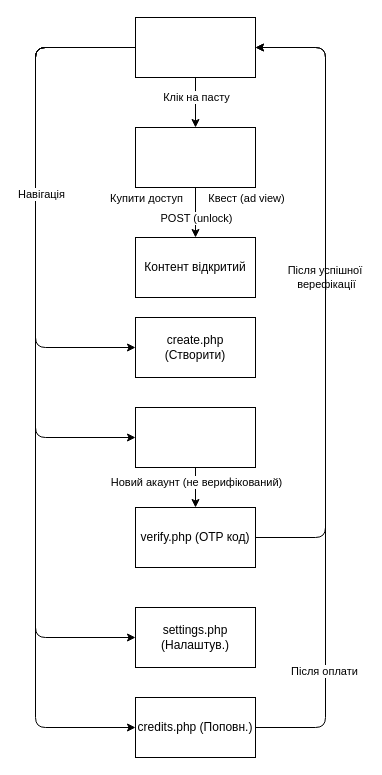
This 382x775 diagram has some shape labels left out. Here are the shapes that lost their labels. From the top down, the box of each, then its label:
(134, 16, 256, 78): index.php (Головна)
(134, 126, 256, 188): view.php (Перегляд)
(134, 406, 256, 468): login.php (Вхід/Реєстр)
